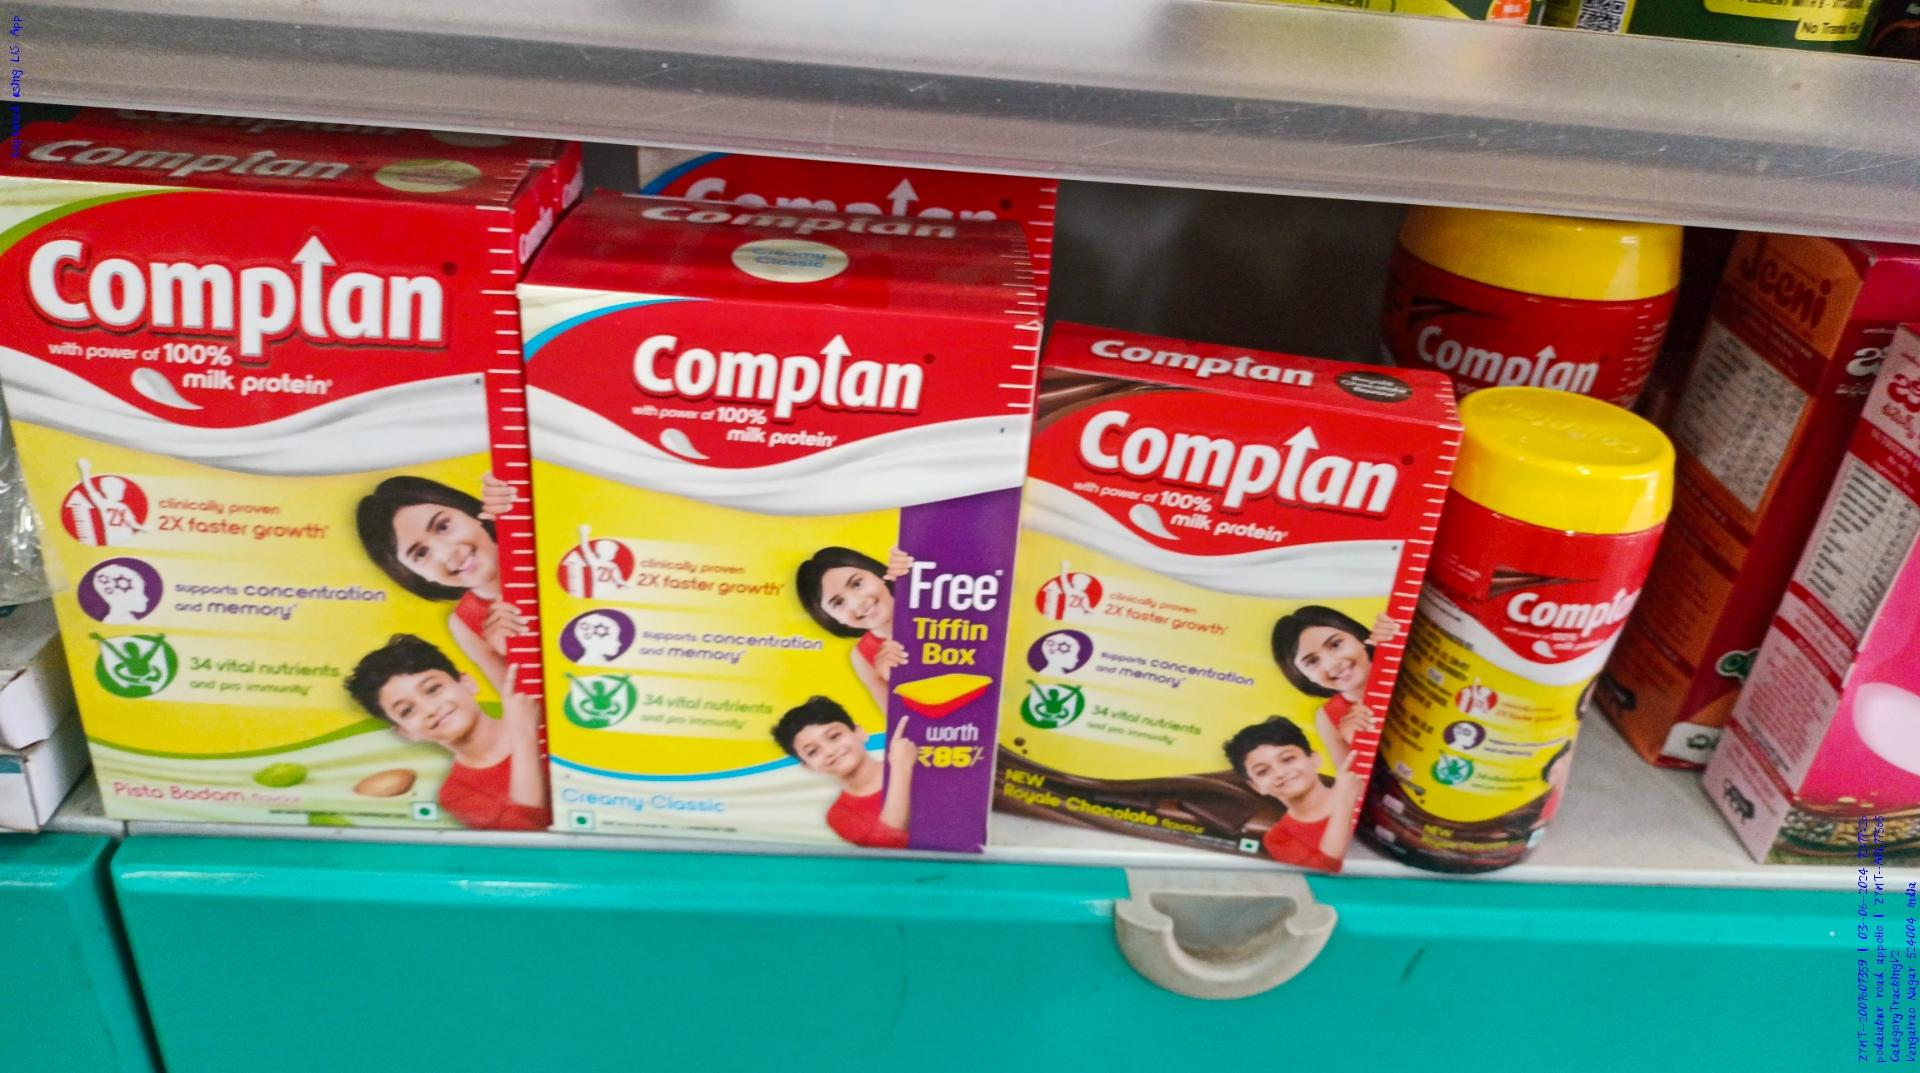COMPLAN_CHOCOLATE_200_GMS_JAR: (1410, 402, 1638, 877)
